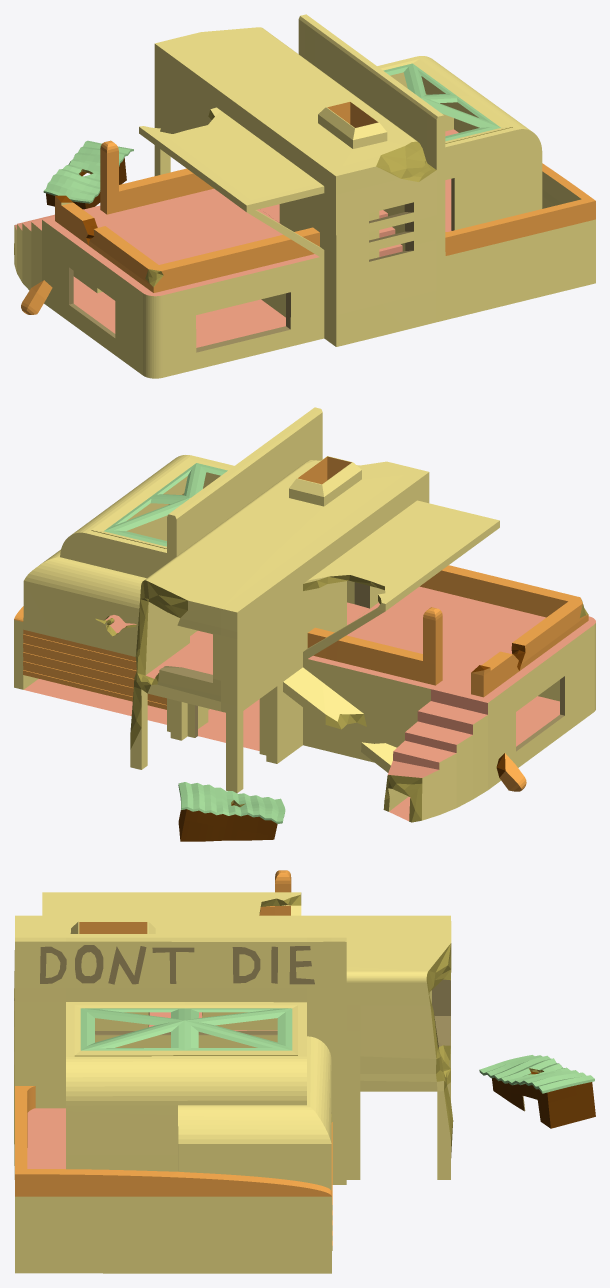
The model's file is Villaa 2.fbxgugnzugnzgnzh8aq.fbx.
3 views of the same model, one above another, from view 1: azimuth 30°, elevation 25°; view 2: azimuth 150°, elevation 25°; view 3: azimuth 270°, elevation 25° (orthographic). The views are drawn at different scales.
Visible parts, largest first — view 1: Vernünftig_LOD0; view 2: Vernünftig_LOD0; view 3: Vernünftig_LOD0.
Boxes of the visible parts, x1,y1,x2,y2 form: Vernünftig_LOD0: (14, 14, 595, 378); Vernünftig_LOD0: (14, 407, 595, 841); Vernünftig_LOD0: (14, 870, 595, 1273).
Size of what is drawn, in the model's own units: 2039 by 867 by 1854.
